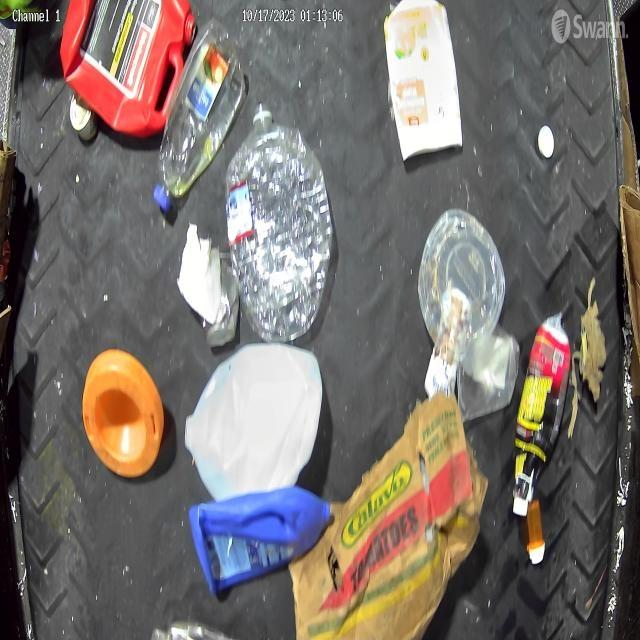milk_jug: (186, 349, 322, 496)
non_white_jug: (64, 0, 183, 138), (190, 483, 335, 592)
plastic_bottle: (225, 106, 334, 342), (156, 30, 247, 205)
